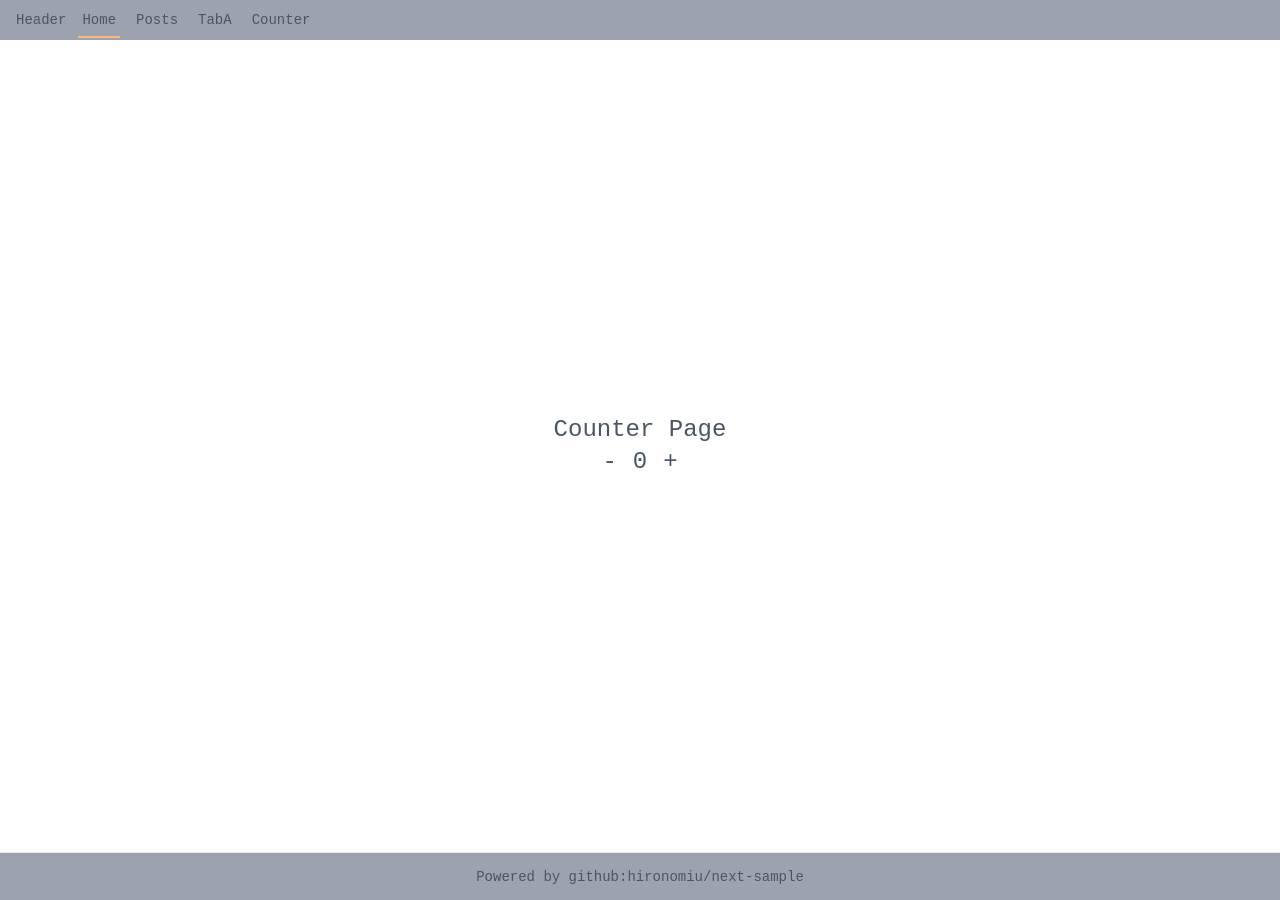
Counter › decrement
The width and height of the screenshot is (1280, 900).
Expected: the text with test id "counter" reads "0", 633,448 -> 647,475
What coordinates should you click on to do the following:
click the button with test id "decrement-button"
I would click on:
 (610, 462)
Its box is 602,446 -> 617,478.
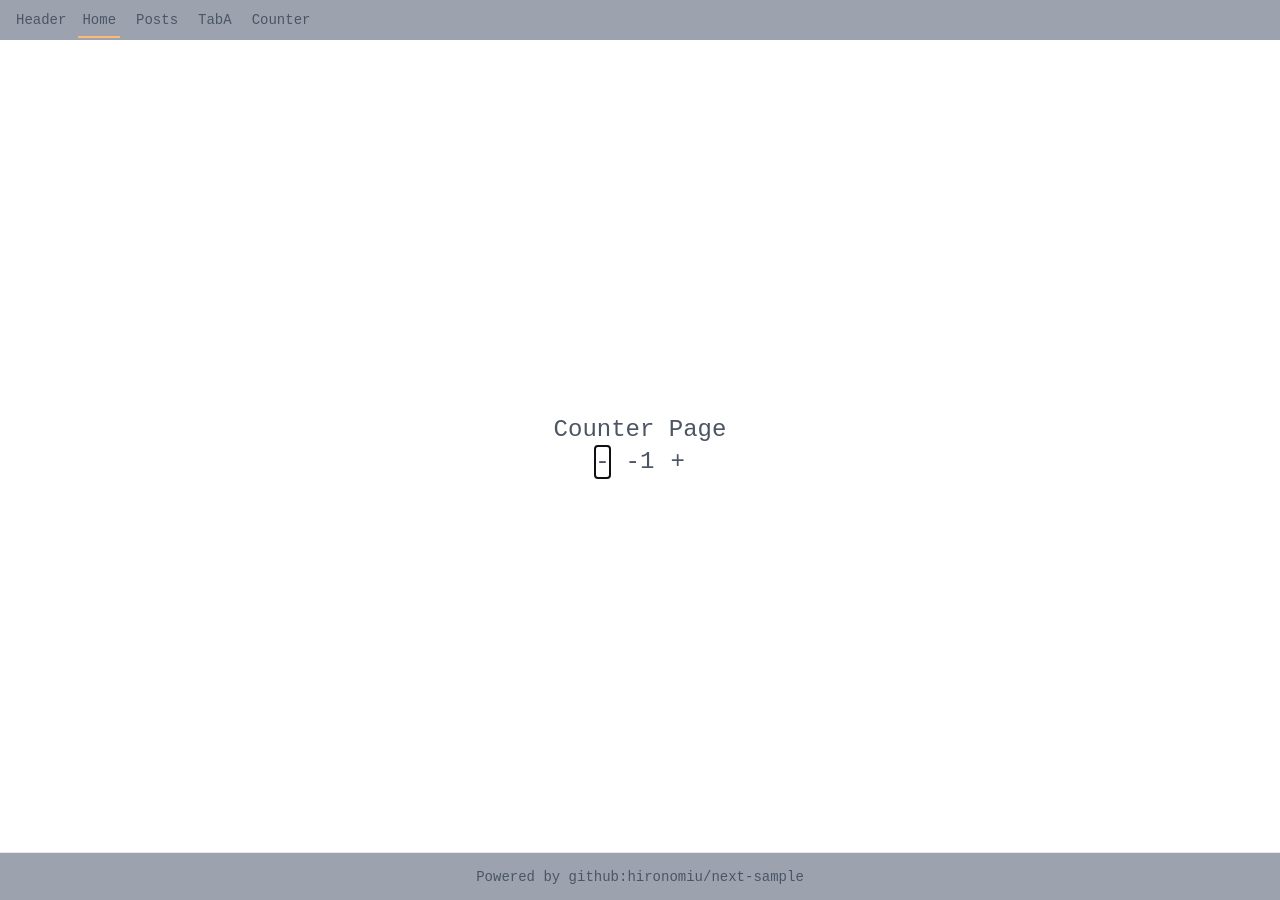
Expected: the text with test id "counter" reads "-1", 626,448 -> 654,475
